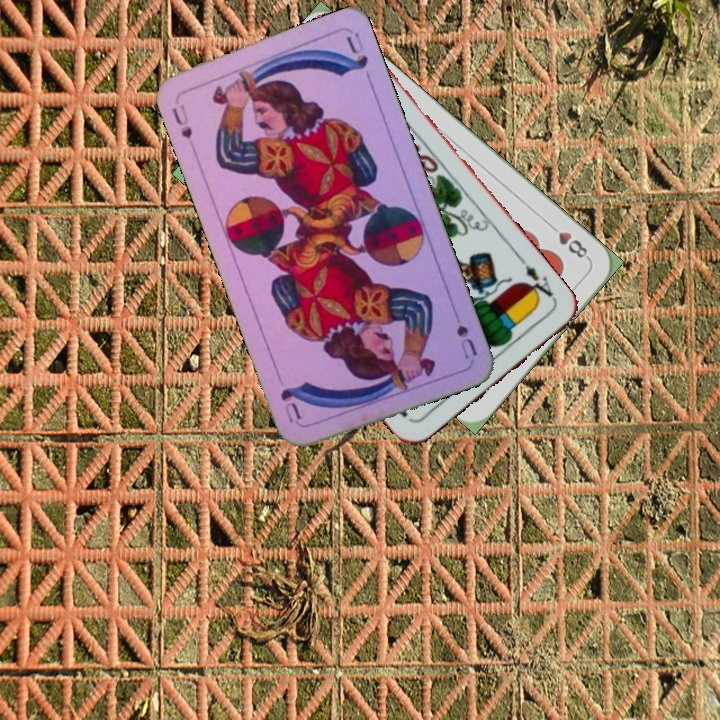EA: (520, 260, 559, 305)
H8: (544, 219, 592, 262)
SU: (452, 321, 480, 362), (168, 101, 195, 141)
